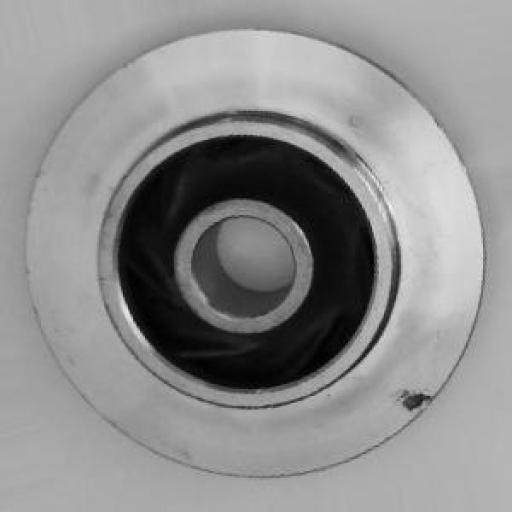defect: (374, 362, 462, 448)
